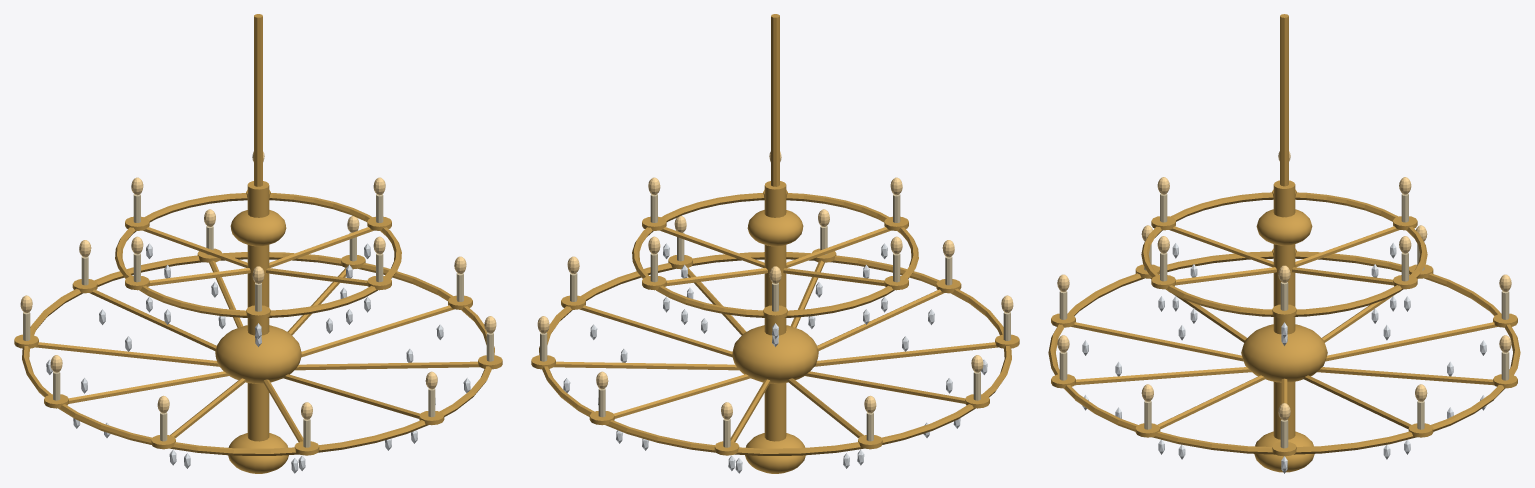
Rendered from chandelier_grand.glb.
3 renders of one model, left to right at view 1: azimuth 30°, elevation 25°; view 2: azimuth 150°, elevation 25°; view 3: azimuth 270°, elevation 25°, orthographic.
Parts seen in each view (by area): view 1: Torus, Torus.001, Sphere.001, schaft, kette, Sphere, Sphere.002, arm-1.29, arm-1.24, arm-1.25, arm-1.20, arm-1.28 (+6 smaller); view 2: Torus, Torus.001, Sphere.001, schaft, kette, Sphere, Sphere.002, arm-1.21, arm-1.26, arm-1.25, arm-1.20, arm-1.22 (+6 smaller); view 3: Torus, Torus.001, Sphere.001, schaft, kette, Sphere, Sphere.002, arm-1.22, arm-1.28, arm-1.23, arm-1.27, arm-1.21 (+5 smaller).
Boxes of the visible parts, <box> form: Torus: <box>22,252,494,455</box>; Torus.001: <box>115,193,401,317</box>; Sphere.001: <box>215,325,301,383</box>; schaft: <box>247,181,269,441</box>; kette: <box>254,14,262,186</box>; Sphere: <box>230,210,286,246</box>; Sphere.002: <box>228,433,288,473</box>; arm-1.29: <box>295,361,479,370</box>; arm-1.24: <box>35,342,219,366</box>; arm-1.25: <box>69,371,228,403</box>; arm-1.20: <box>301,305,453,357</box>; arm-1.28: <box>283,374,420,418</box>; Torus: <box>539,252,1011,455</box>; Torus.001: <box>632,193,918,317</box>; Sphere.001: <box>732,325,818,383</box>; schaft: <box>764,181,786,441</box>; kette: <box>771,14,779,186</box>; Sphere: <box>747,210,803,246</box>; Sphere.002: <box>745,433,805,473</box>; arm-1.21: <box>554,361,738,370</box>; arm-1.26: <box>814,342,998,366</box>; arm-1.25: <box>805,371,964,403</box>; arm-1.20: <box>580,305,732,357</box>; arm-1.22: <box>613,374,750,418</box>; Torus: <box>1048,251,1520,454</box>; Torus.001: <box>1141,192,1427,316</box>; Sphere.001: <box>1241,324,1327,382</box>; schaft: <box>1273,180,1295,439</box>; kette: <box>1280,14,1288,186</box>; Sphere: <box>1256,209,1312,245</box>; Sphere.002: <box>1254,431,1314,472</box>; arm-1.22: <box>1317,367,1493,385</box>; arm-1.28: <box>1075,367,1251,385</box>; arm-1.23: <box>1325,322,1497,361</box>; arm-1.27: <box>1071,322,1243,361</box>; arm-1.21: <box>1303,375,1411,429</box>.
Size of the model in its own units: 1.58 by 1.61 by 1.52.
